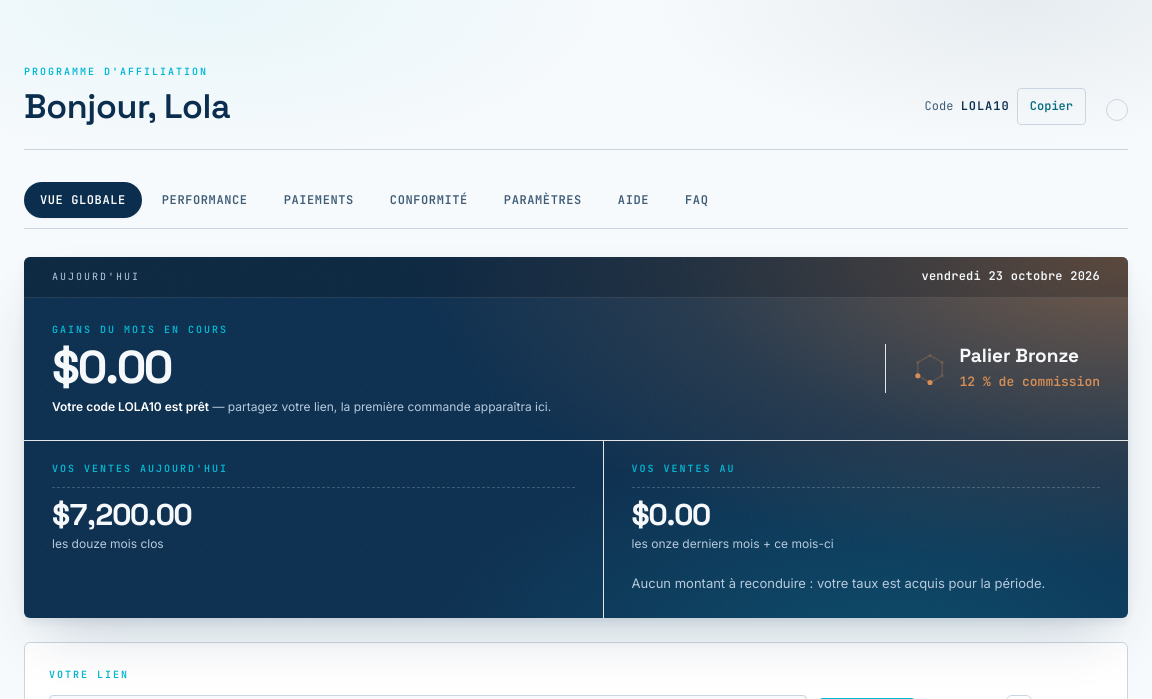
Test: le flux d'activité › LE MONTANT AFFICHÉ EST CELUI EN DOLLARS CANADIENS
What coordinates should you click on to do the following:
click the button "Paiements"
I would click on:
 (319, 200)
Its box is [268,182,370,218].
(page scrolled)
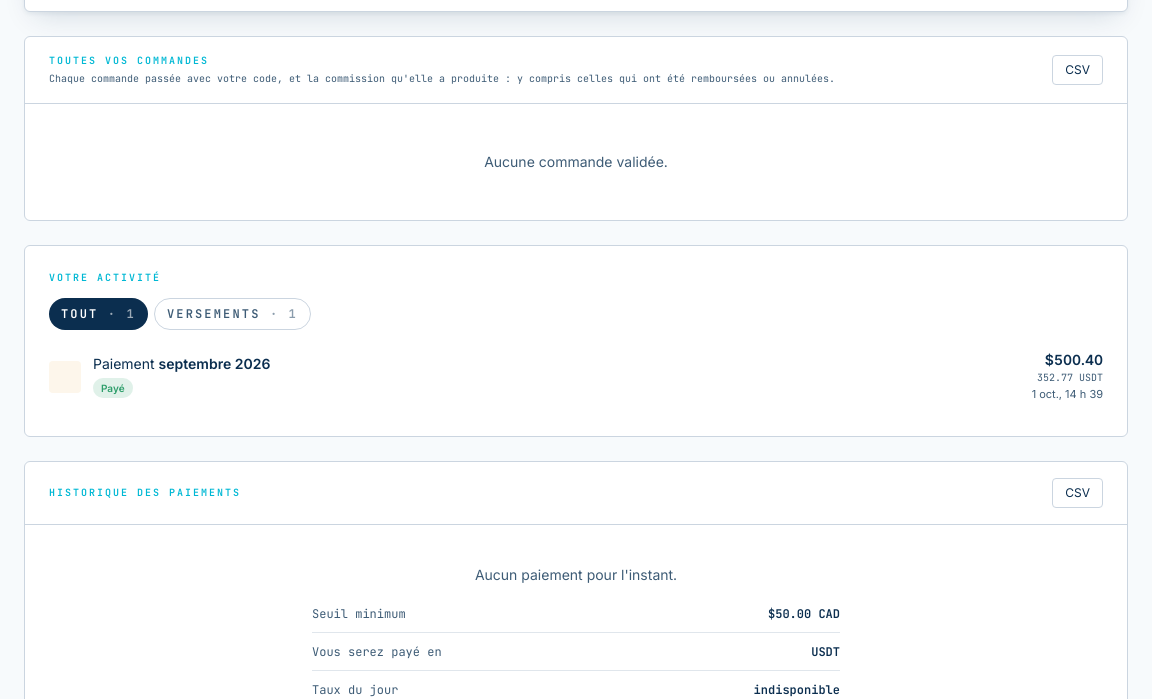
expect the text with test id "activite-montant-versement" shows "500.40": met, box [1045,352,1103,368]
